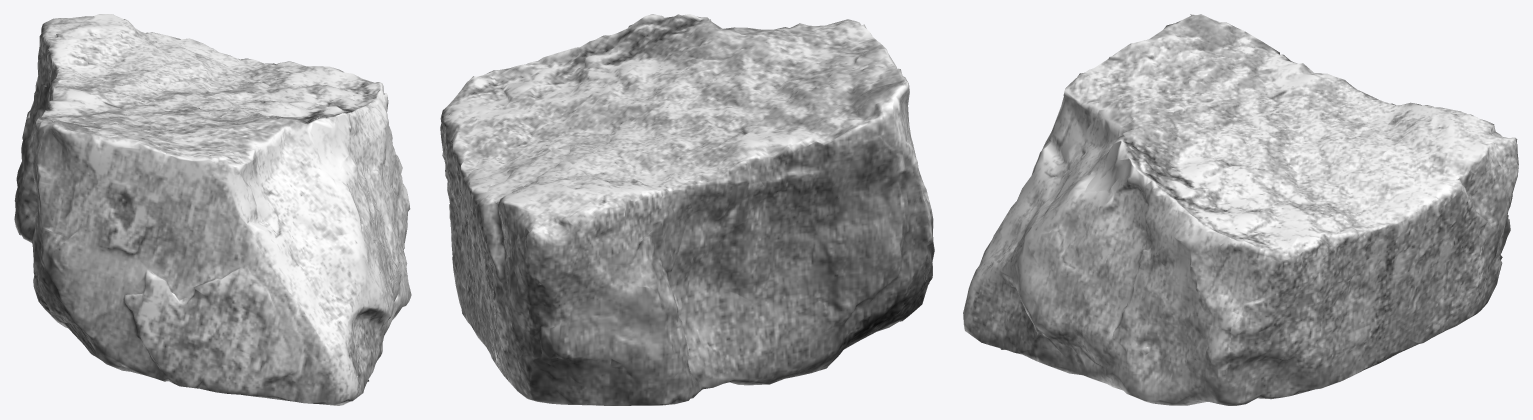
The model's file is boulder-quarried-block-lod0.glb.
3 renders of one model, left to right at view 1: azimuth 30°, elevation 25°; view 2: azimuth 150°, elevation 25°; view 3: azimuth 270°, elevation 25°, orthographic. The views are drawn at different scales.
Parts seen in each view (by area): view 1: boulder_03_LOD0; view 2: boulder_03_LOD0; view 3: boulder_03_LOD0.
Boxes of the visible parts, left/top/right/bottom form: boulder_03_LOD0: left=14, top=14, right=411, bottom=405; boulder_03_LOD0: left=440, top=14, right=934, bottom=405; boulder_03_LOD0: left=963, top=14, right=1518, bottom=405.
Bounding box in the file's own units: 2.4 × 1.47 × 3.06.
Materials: 1 (1 with a texture image).
